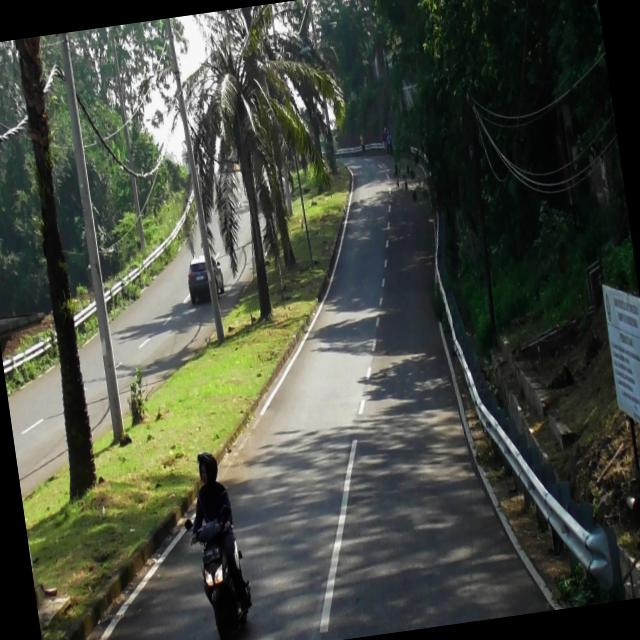motorcycle: (186, 513, 256, 638)
person: (181, 450, 238, 552)
rider_region: (184, 449, 259, 640)
